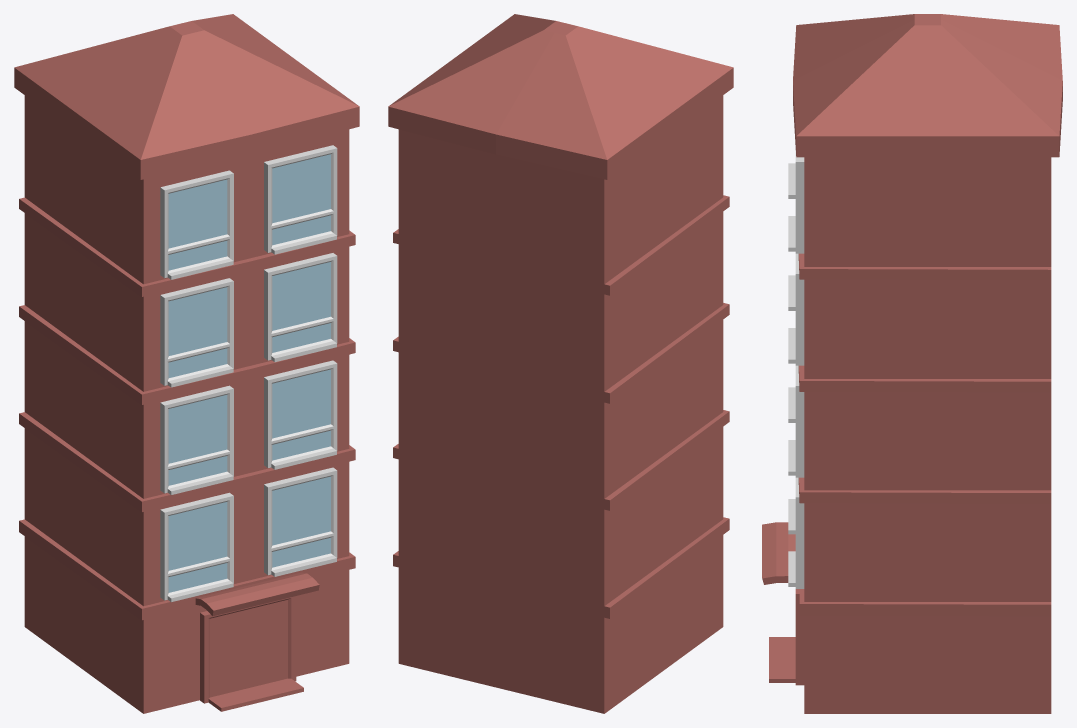
The model's file is Apt2.fbx.
3 views of the same model, side by side, from view 1: azimuth 30°, elevation 25°; view 2: azimuth 150°, elevation 25°; view 3: azimuth 270°, elevation 25° (orthographic). The views are drawn at different scales.
Parts seen in each view (by area): view 1: apartment1; view 2: apartment1; view 3: apartment1.
Boxes of the visible parts, <box> form: apartment1: <box>14,14,359,713</box>; apartment1: <box>388,14,733,713</box>; apartment1: <box>762,14,1062,713</box>.
Bounding box in the file's own units: 984 × 2649 × 1123.
